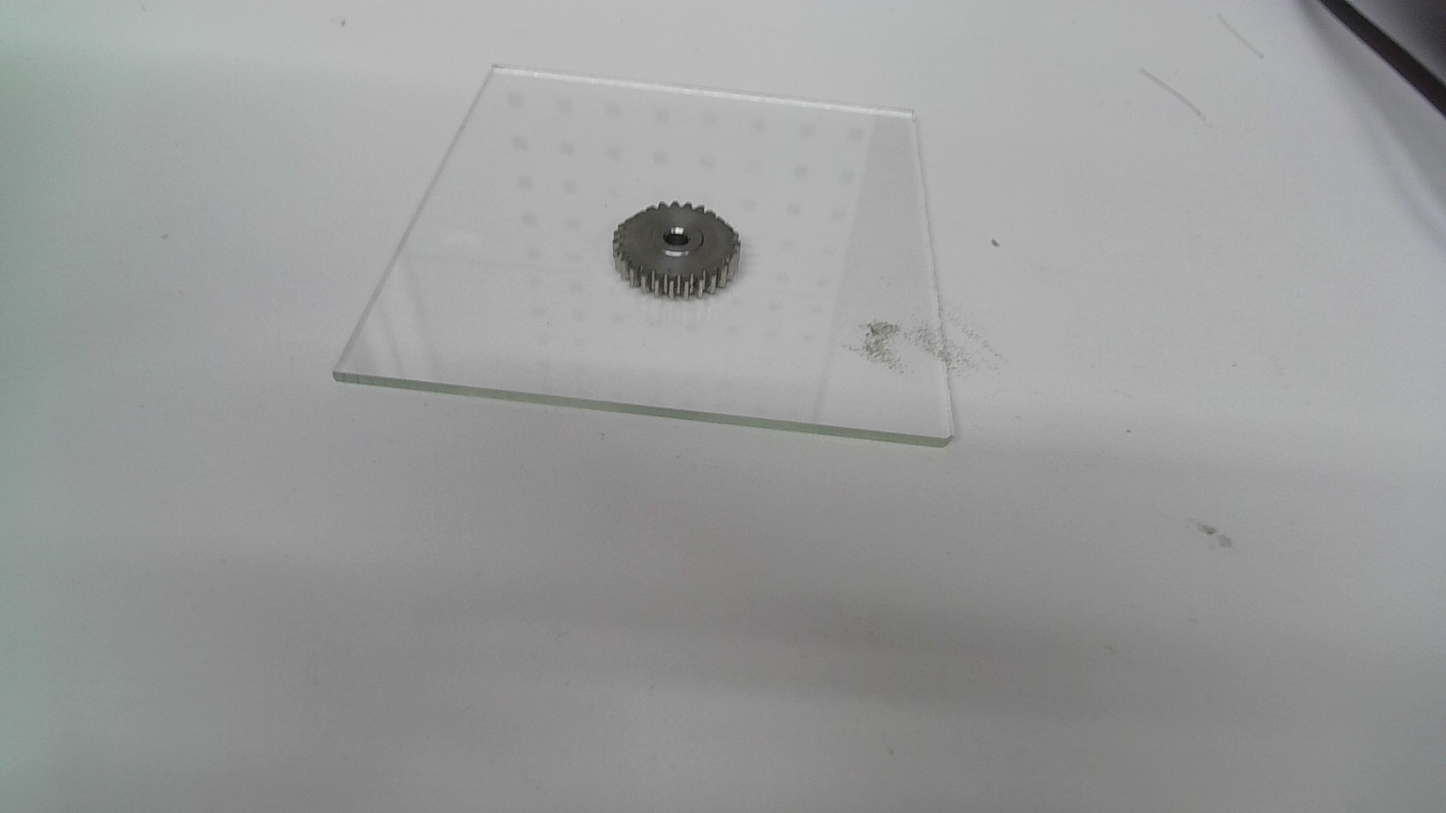gear: (609, 201, 742, 302)
